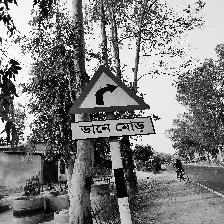Right-turn: (67, 66, 154, 141)
